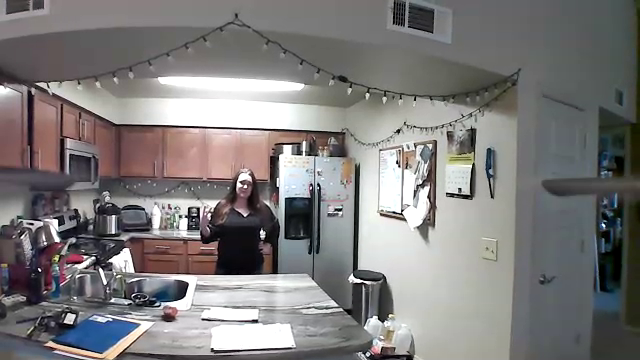peace: (197, 202, 219, 234)
